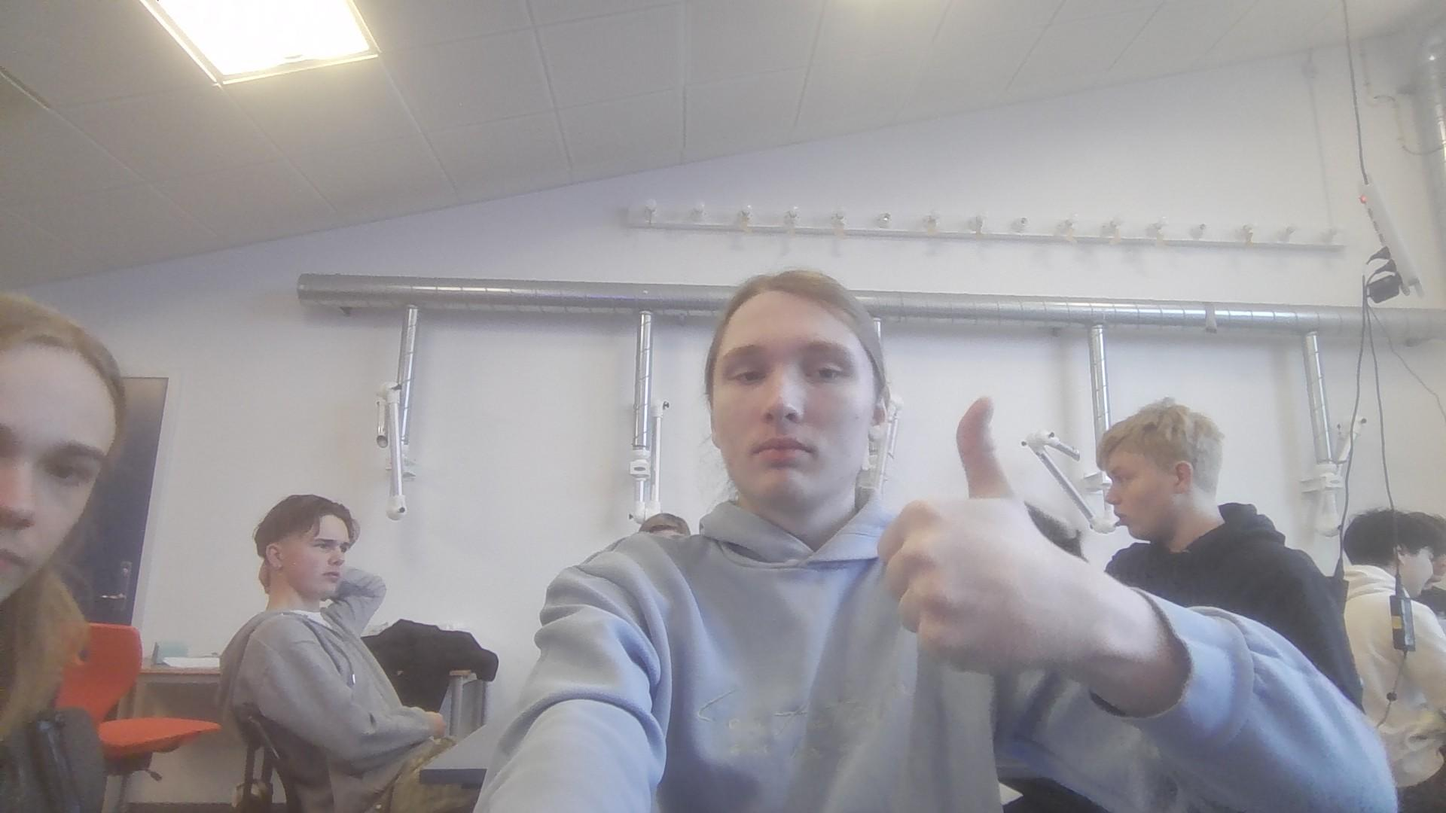thumbs up: (885, 385, 1106, 680)
